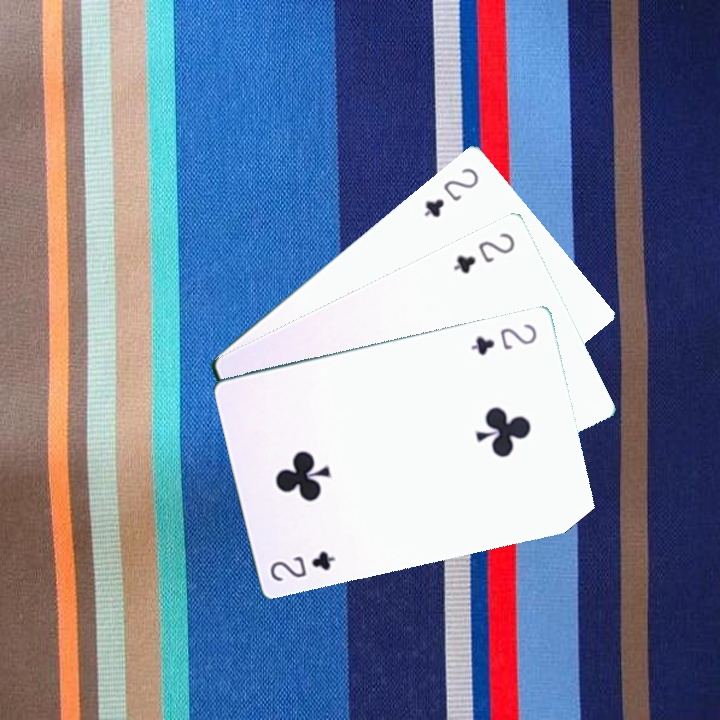2c: (420, 163, 482, 220), (449, 228, 518, 277), (467, 319, 540, 358), (266, 546, 338, 584)
